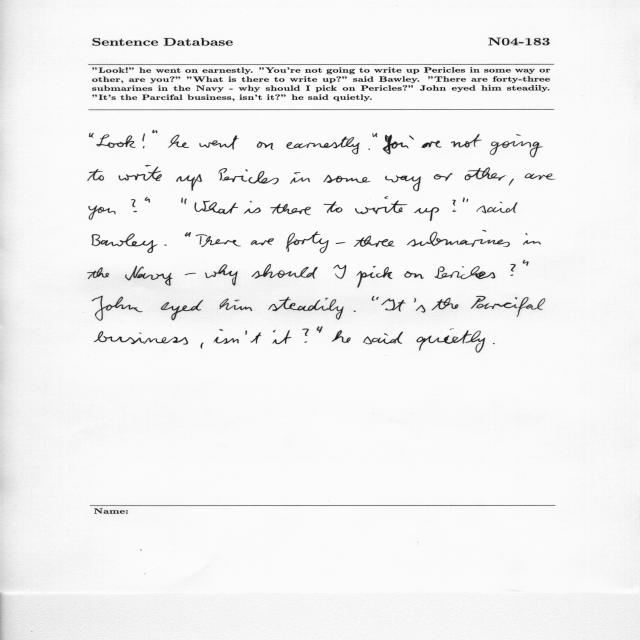word: (286, 231, 395, 253), (407, 231, 510, 248), (268, 297, 344, 320), (417, 328, 486, 353), (471, 296, 545, 317), (286, 137, 360, 155), (92, 233, 157, 253), (92, 296, 143, 321), (490, 135, 543, 158), (95, 331, 188, 344), (219, 168, 279, 185), (251, 264, 318, 279), (126, 266, 173, 286), (355, 197, 407, 214), (161, 300, 203, 320), (435, 266, 496, 279), (357, 266, 393, 287), (213, 329, 261, 344), (118, 165, 162, 181), (205, 265, 238, 286), (200, 135, 239, 150), (196, 234, 241, 247), (385, 175, 421, 191), (195, 201, 239, 214), (96, 134, 136, 148), (465, 168, 506, 181), (363, 332, 403, 344), (383, 135, 408, 154), (270, 204, 311, 215), (477, 202, 518, 213), (176, 174, 202, 191), (89, 205, 116, 220), (451, 134, 482, 147), (219, 299, 252, 311), (409, 136, 441, 148), (324, 175, 370, 183), (414, 207, 439, 221), (381, 299, 406, 312), (432, 298, 459, 310), (168, 135, 189, 148), (272, 330, 291, 344), (88, 267, 109, 279), (332, 330, 351, 343), (290, 172, 310, 184), (324, 201, 343, 213), (244, 201, 261, 214), (523, 233, 541, 245), (525, 173, 555, 180), (333, 264, 346, 279), (88, 169, 104, 181), (414, 298, 425, 313), (251, 239, 274, 246), (404, 271, 424, 279), (434, 173, 453, 181), (257, 141, 273, 150), (302, 328, 309, 343), (131, 199, 137, 212), (510, 264, 516, 276), (453, 200, 457, 212), (142, 134, 145, 149), (317, 326, 323, 333), (181, 198, 187, 204), (523, 260, 529, 266), (509, 179, 514, 186), (372, 296, 379, 301), (145, 197, 150, 203), (185, 232, 191, 237), (89, 133, 94, 138), (185, 273, 196, 275), (201, 342, 204, 349), (372, 133, 377, 137), (463, 198, 468, 202), (153, 130, 158, 133), (368, 148, 370, 150), (354, 310, 356, 312), (164, 245, 167, 246), (493, 343, 495, 344)
